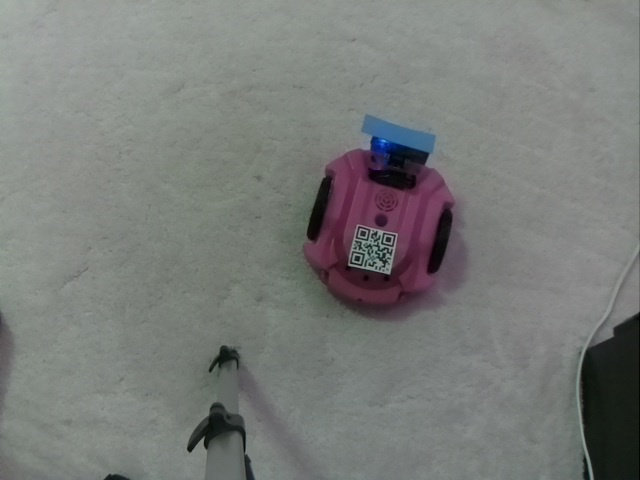chassis: (300, 112, 461, 310)
qr: (342, 216, 405, 279)
